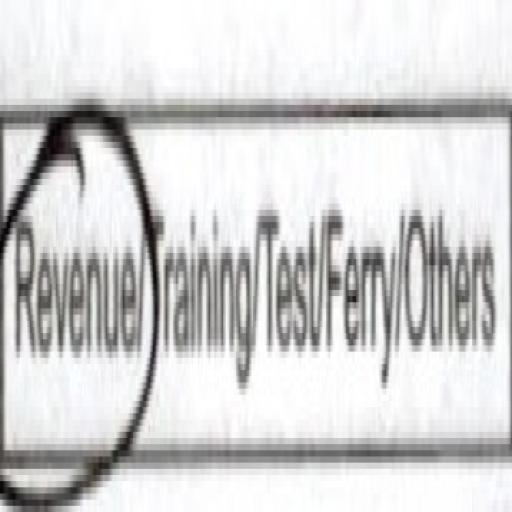check: (0, 24, 150, 512)
